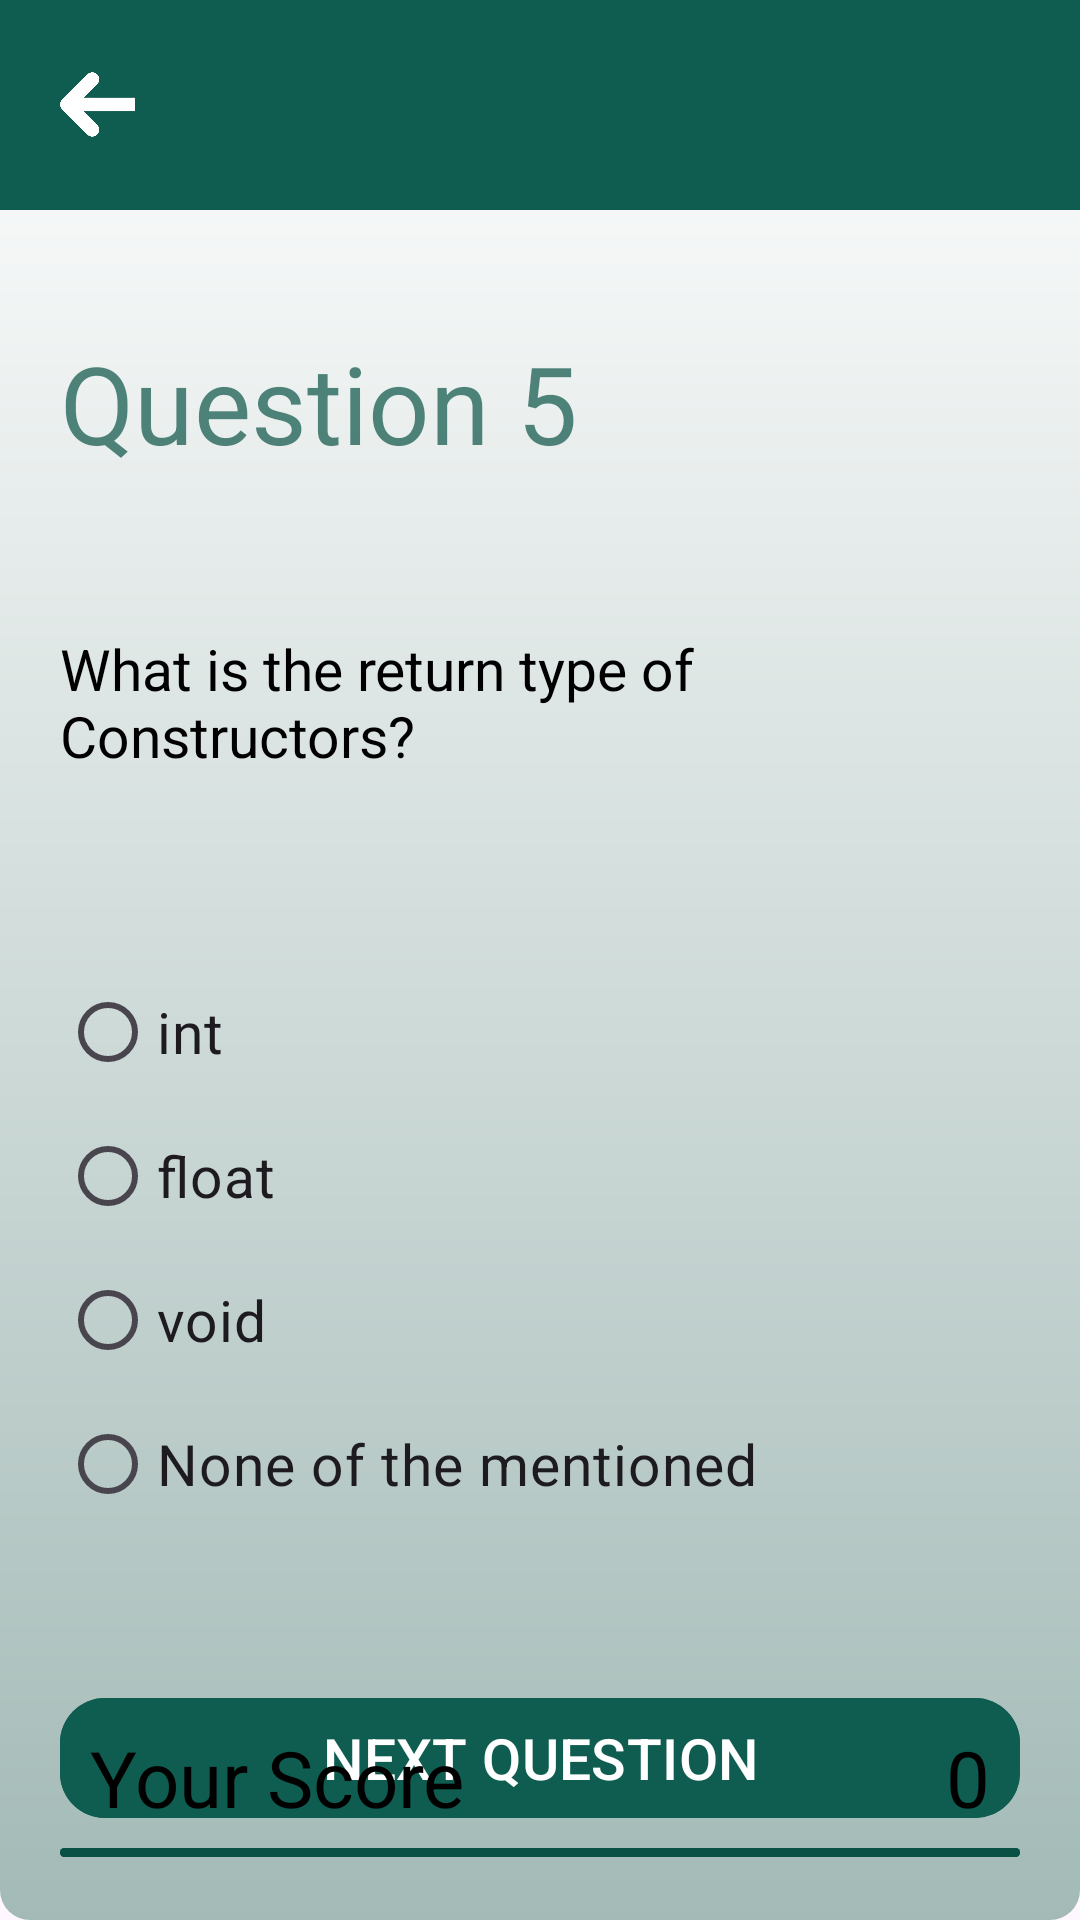

Screen size 1080w x 1920h. Icon name, then its box in pixels as rect(x1, y1, x2, y2):
back: rect(60, 72, 135, 137)
